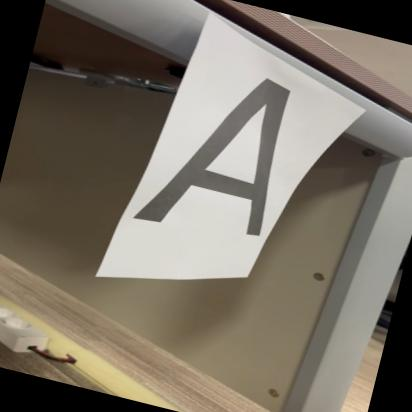seat: (116, 42, 339, 284)
